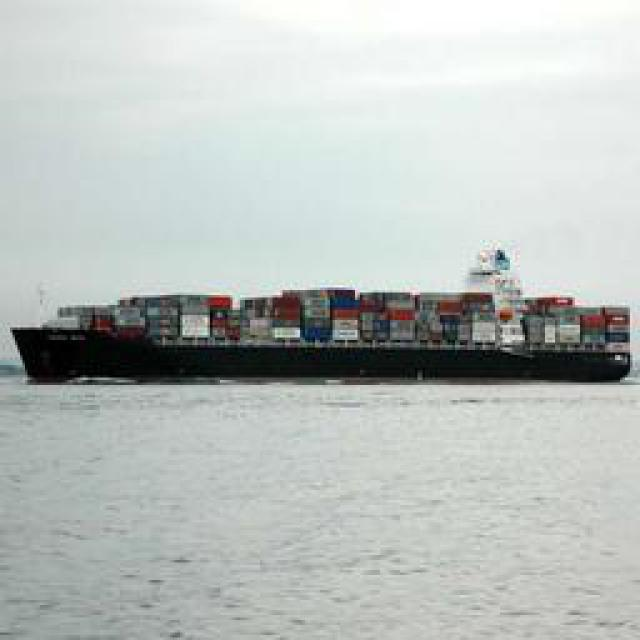Ship: (28, 244, 636, 387)
